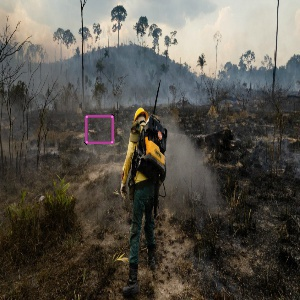square: (82, 113, 115, 145)
